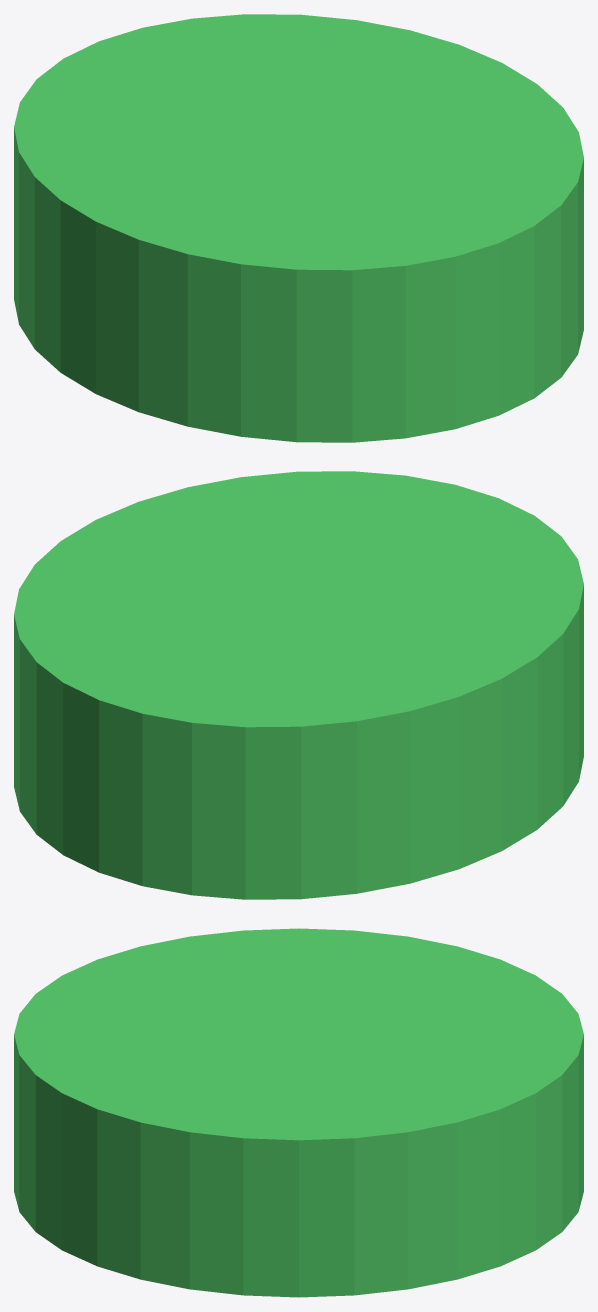
3 renders of one model, top to bottom at view 1: azimuth 30°, elevation 25°; view 2: azimuth 150°, elevation 25°; view 3: azimuth 270°, elevation 25°, orthographic. The views are drawn at different scales.
Parts seen in each view (by area): view 1: Cylinder; view 2: Cylinder; view 3: Cylinder.
Part boxes in pixels (x1=…): Cylinder: x1=14, y1=14, x2=583, y2=442; Cylinder: x1=14, y1=471, x2=583, y2=899; Cylinder: x1=14, y1=928, x2=583, y2=1297.
Size of the model in its own units: 5.78 by 6.57 by 2.
